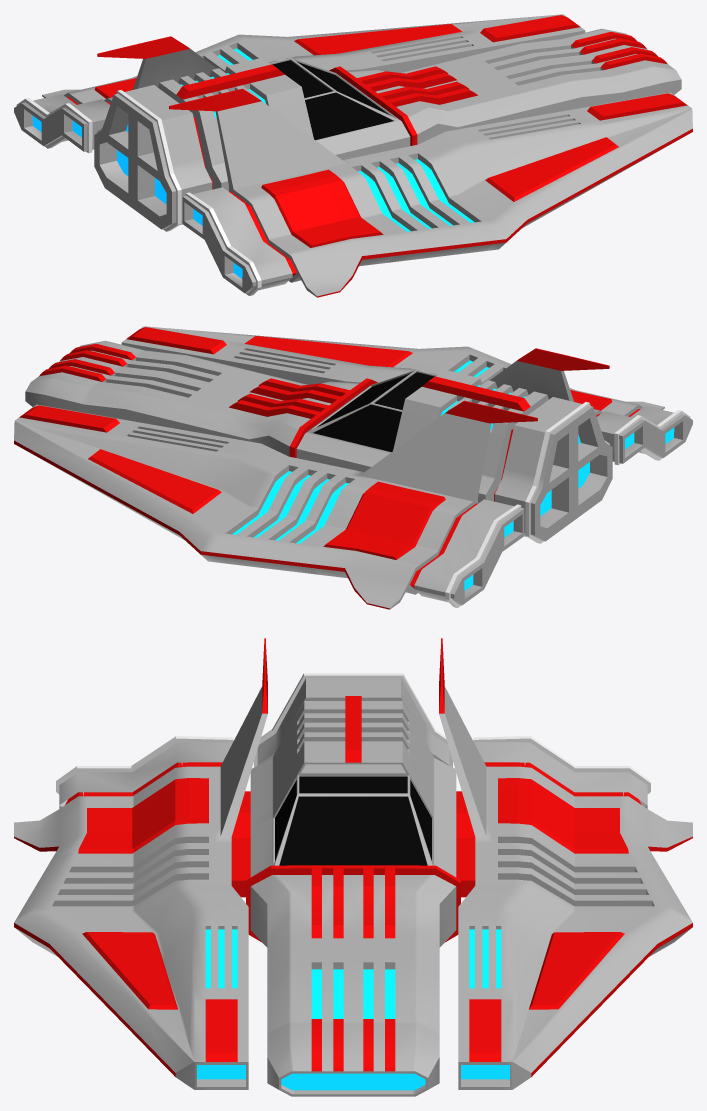
The model's file is low_poly_spaceship.glb.
The picture shows the model from 3 angles, top to bottom: view 1: azimuth 30°, elevation 25°; view 2: azimuth 150°, elevation 25°; view 3: azimuth 270°, elevation 25°; orthographic projection. The views are drawn at different scales.
Visible parts, largest first — view 1: pCube7; view 2: pCube7; view 3: pCube7.
Part boxes in pixels (left/top/right/bottom): pCube7: left=14, top=14, right=692, bottom=297; pCube7: left=14, top=326, right=692, bottom=609; pCube7: left=14, top=638, right=692, bottom=1096.
Size of the model in its own units: 0.0555 by 0.0138 by 0.051.
